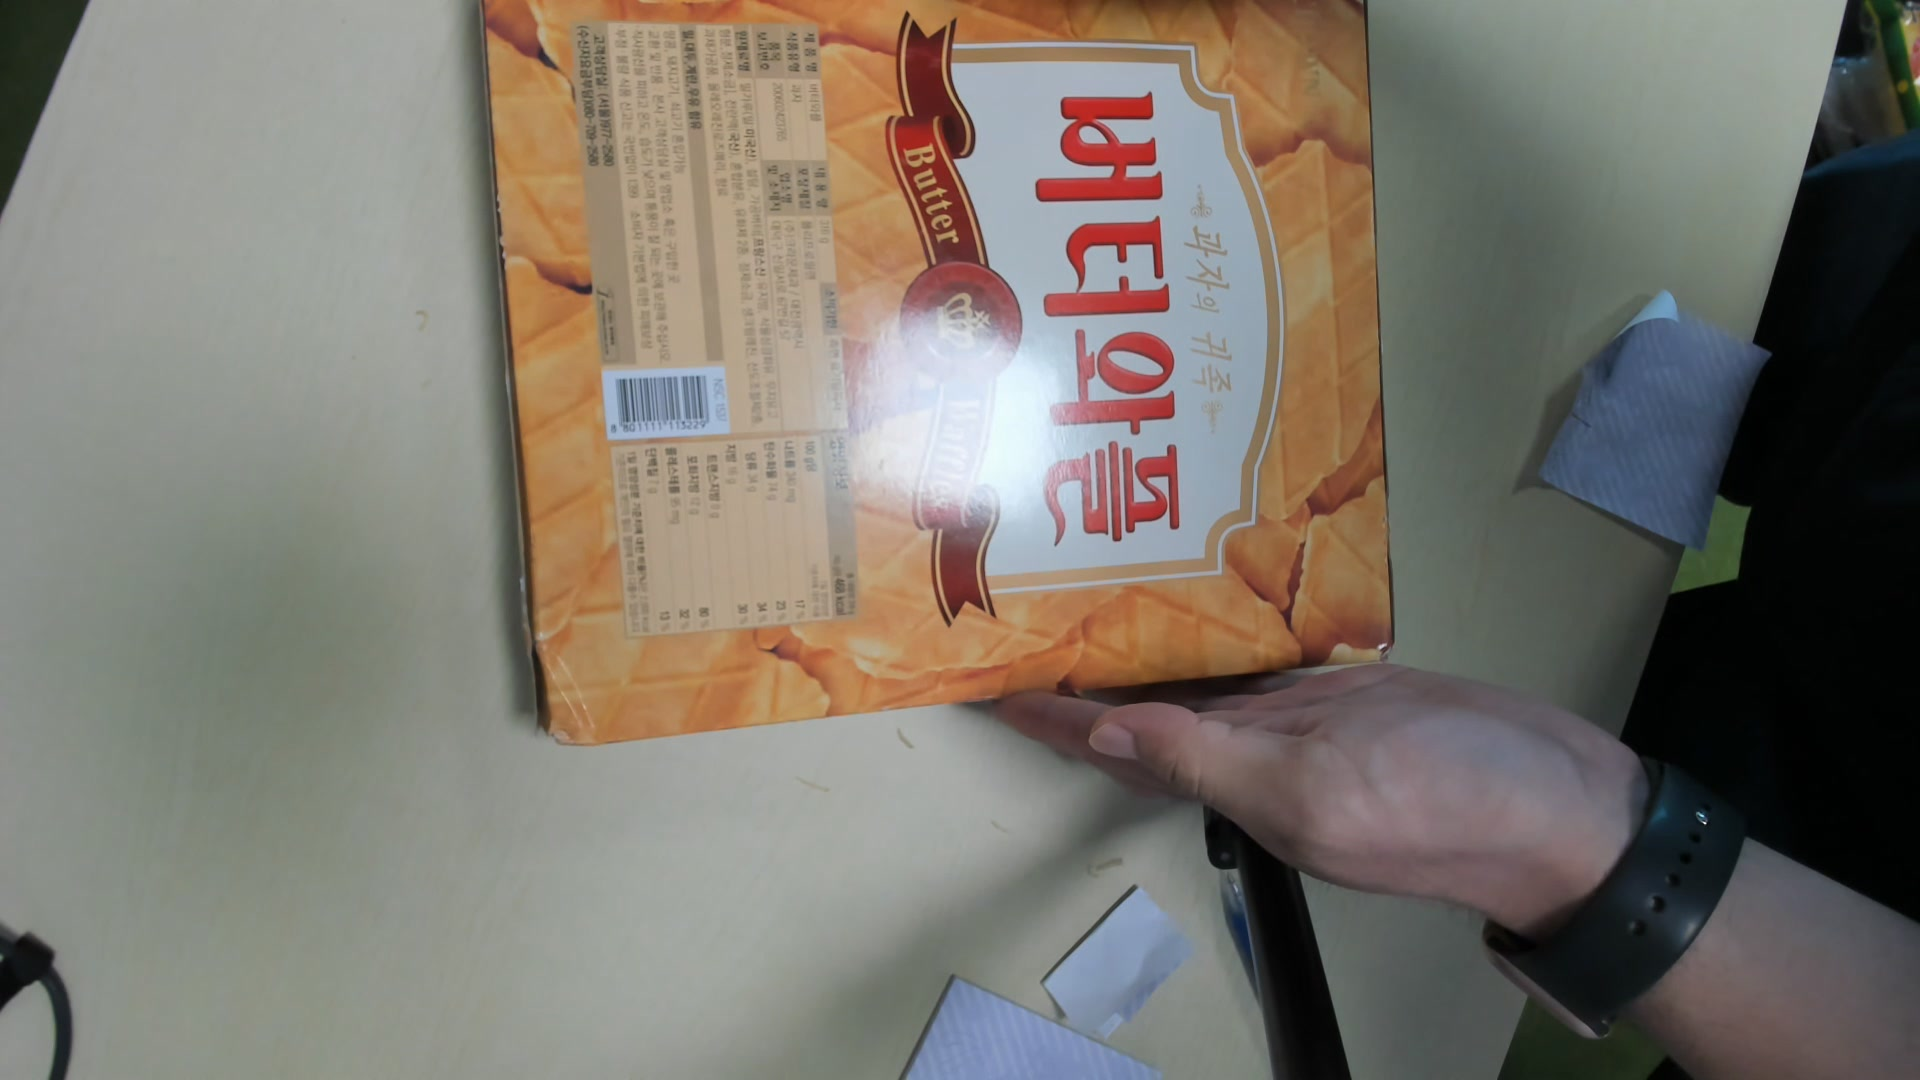BiscuitsCrackersCookies_300-399g_NonHalal_NonHealthy: (475, 5, 1402, 736)
